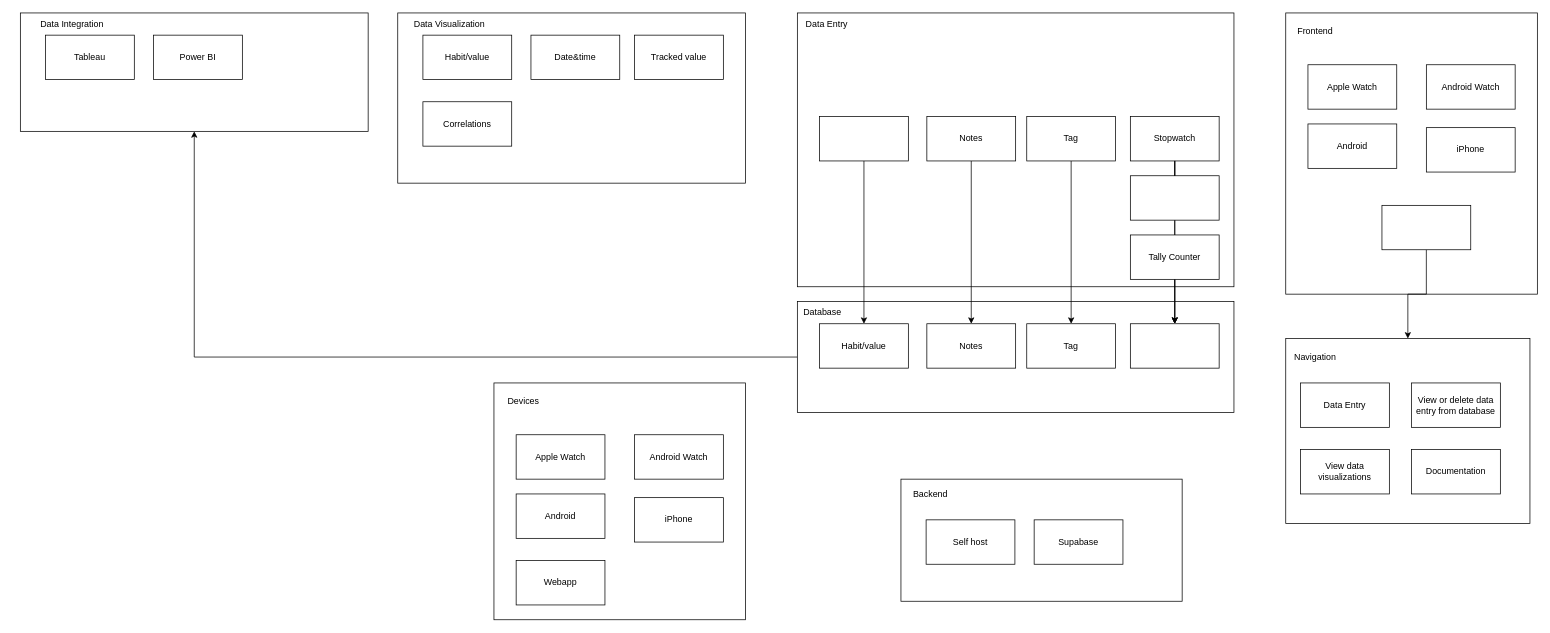
Some shapes in this 1550 by 633 pixel diagram are drawn without their labels. Each missing label, with the centre of its shape:
Habit / Value: point (863, 138)
Navigation menu: point (1426, 227)
Recorded value: point (1174, 345)
Timer: point (1174, 197)
